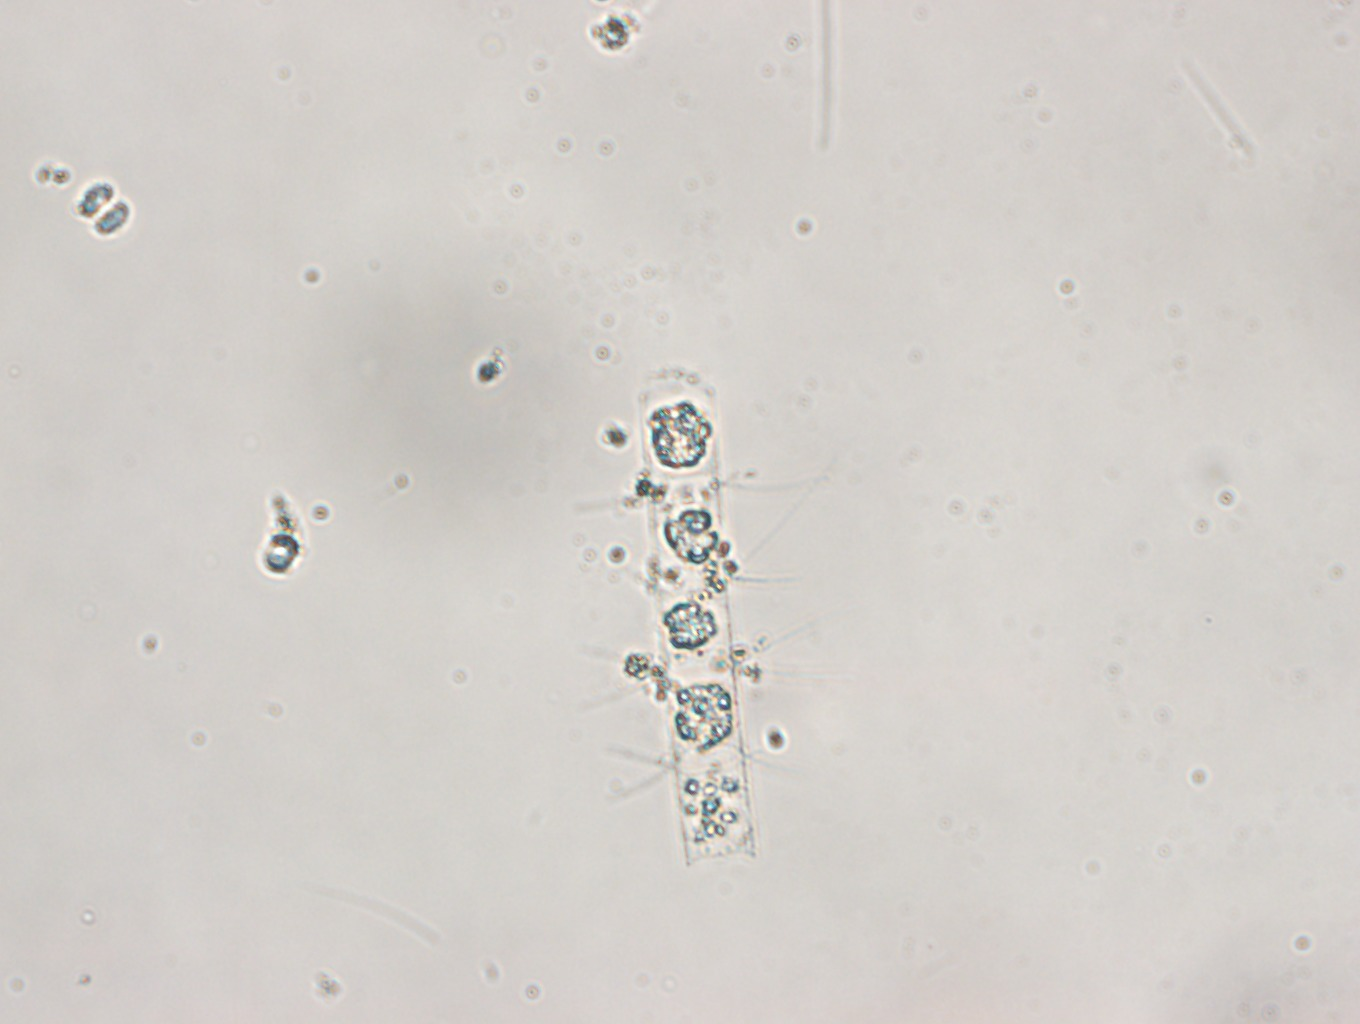chaetoceros: (559, 368, 833, 861)
